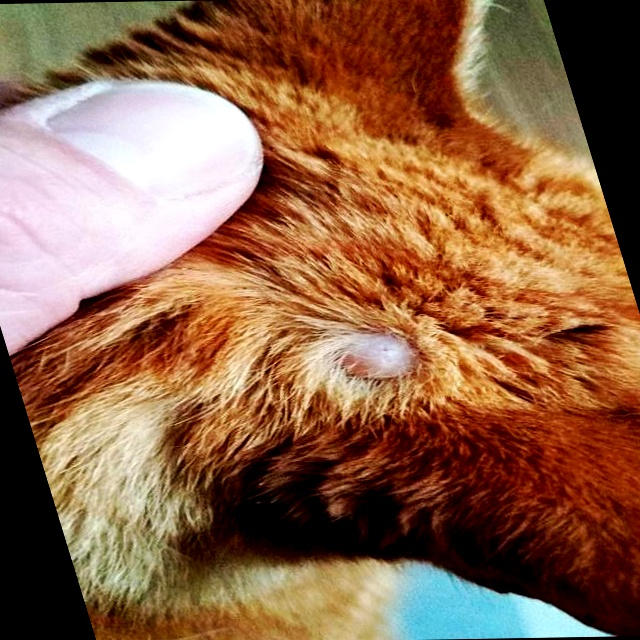lump_and_bump: (323, 328, 430, 390)
